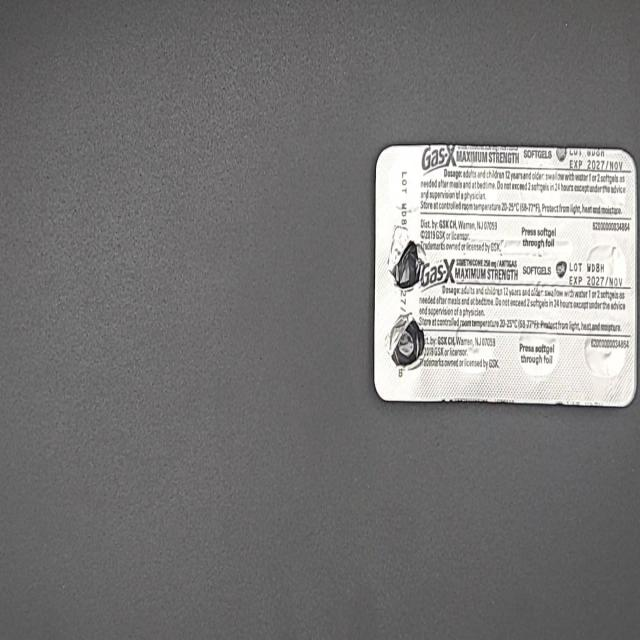defect: (385, 221, 429, 295), (382, 310, 428, 374)
